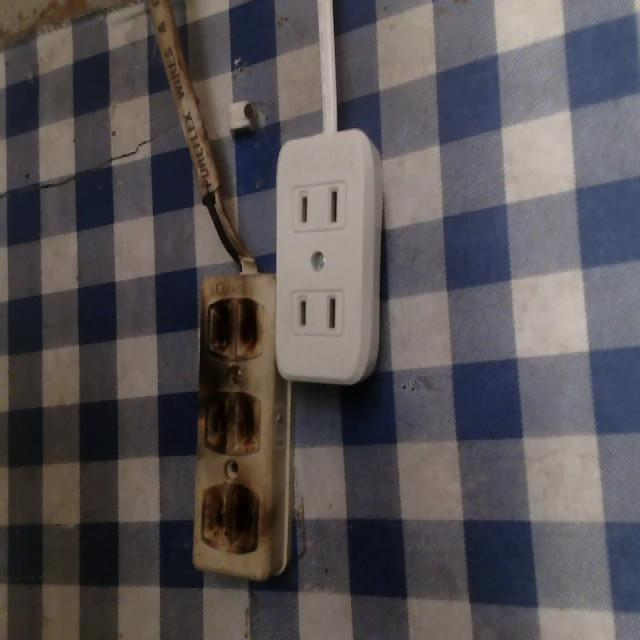-: (194, 478, 263, 554), (201, 385, 264, 459), (201, 293, 265, 364)
